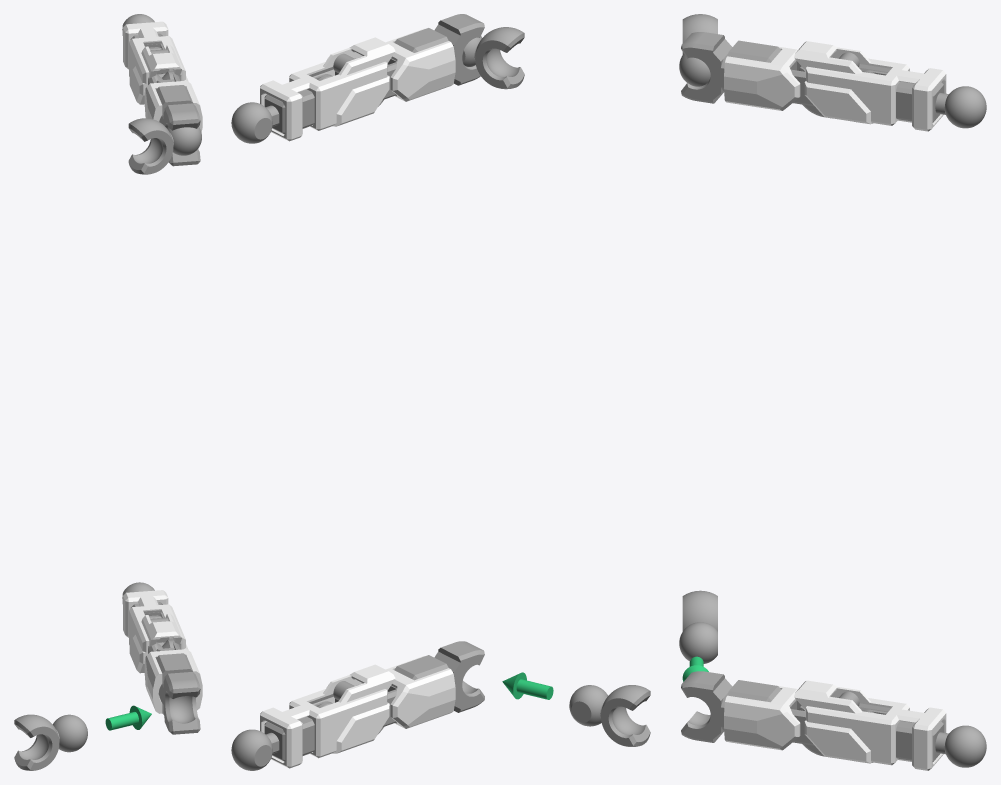
The model's file is shoulder_a.glb.
3 views of the same model, side by side, from view 1: azimuth 30°, elevation 25°; view 2: azimuth 150°, elevation 25°; view 3: azimuth 270°, elevation 25° (orthographic). The views are drawn at different scales.
Parts seen in each view (by area): view 1: Body1.029, Body1.036, Body1.031, Body1.024, Body1.032, Body1.035, Body1.025, Body1.033, Body1.028, Body1.026, Arrow.004, Body1.027 (+1 smaller); view 2: Body1.036, Body1.029, Body1.031, Body1.028, Body1.035, Body1.024, Body1.034, Body1.027, Body1.032, Body1.025, Body1.033, Body1.026 (+1 smaller); view 3: Body1.029, Body1.036, Body1.035, Body1.028, Body1.027, Body1.034, Body1.031, Body1.032, Body1.025, Body1.024, Body1.026, Body1.033.
Part boxes in pixels (x1,y1,x2,y2): Body1.029: [123, 21, 188, 104]; Body1.036: [123, 590, 188, 673]; Body1.031: [14, 714, 87, 770]; Body1.024: [128, 118, 201, 174]; Body1.032: [158, 672, 200, 734]; Body1.035: [144, 649, 202, 713]; Body1.025: [159, 103, 200, 166]; Body1.033: [148, 639, 193, 714]; Body1.028: [144, 80, 202, 132]; Body1.026: [148, 71, 193, 123]; Arrow.004: [105, 705, 151, 730]; Body1.027: [122, 14, 173, 71]; Body1.036: [260, 664, 395, 768]; Body1.029: [260, 37, 395, 141]; Body1.031: [569, 685, 650, 746]; Body1.028: [386, 28, 455, 101]; Body1.035: [386, 656, 455, 728]; Body1.024: [462, 27, 524, 89]; Body1.034: [231, 701, 332, 770]; Body1.027: [231, 74, 332, 143]; Body1.032: [434, 641, 484, 712]; Body1.025: [434, 14, 484, 85]; Body1.033: [383, 655, 448, 726]; Body1.026: [383, 28, 448, 99]; Body1.029: [794, 41, 946, 131]; Body1.036: [794, 680, 946, 770]; Body1.035: [724, 686, 800, 750]; Body1.028: [724, 46, 800, 110]; Body1.027: [862, 70, 986, 128]; Body1.034: [862, 709, 986, 767]; Body1.031: [679, 590, 717, 663]; Body1.032: [681, 671, 732, 742]; Body1.025: [681, 32, 732, 103]; Body1.024: [679, 14, 717, 86]; Body1.026: [727, 40, 814, 106]; Body1.033: [727, 680, 814, 745].
Bounding box in the file's own units: 46.89 × 110 × 43.59.
